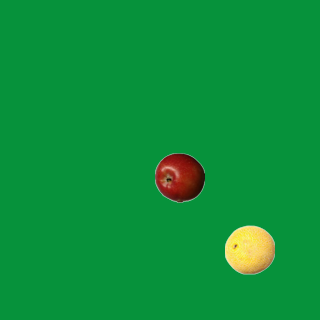Apple Braeburn: (154, 152, 204, 202)
Cantaloupe 1: (224, 224, 274, 274)
